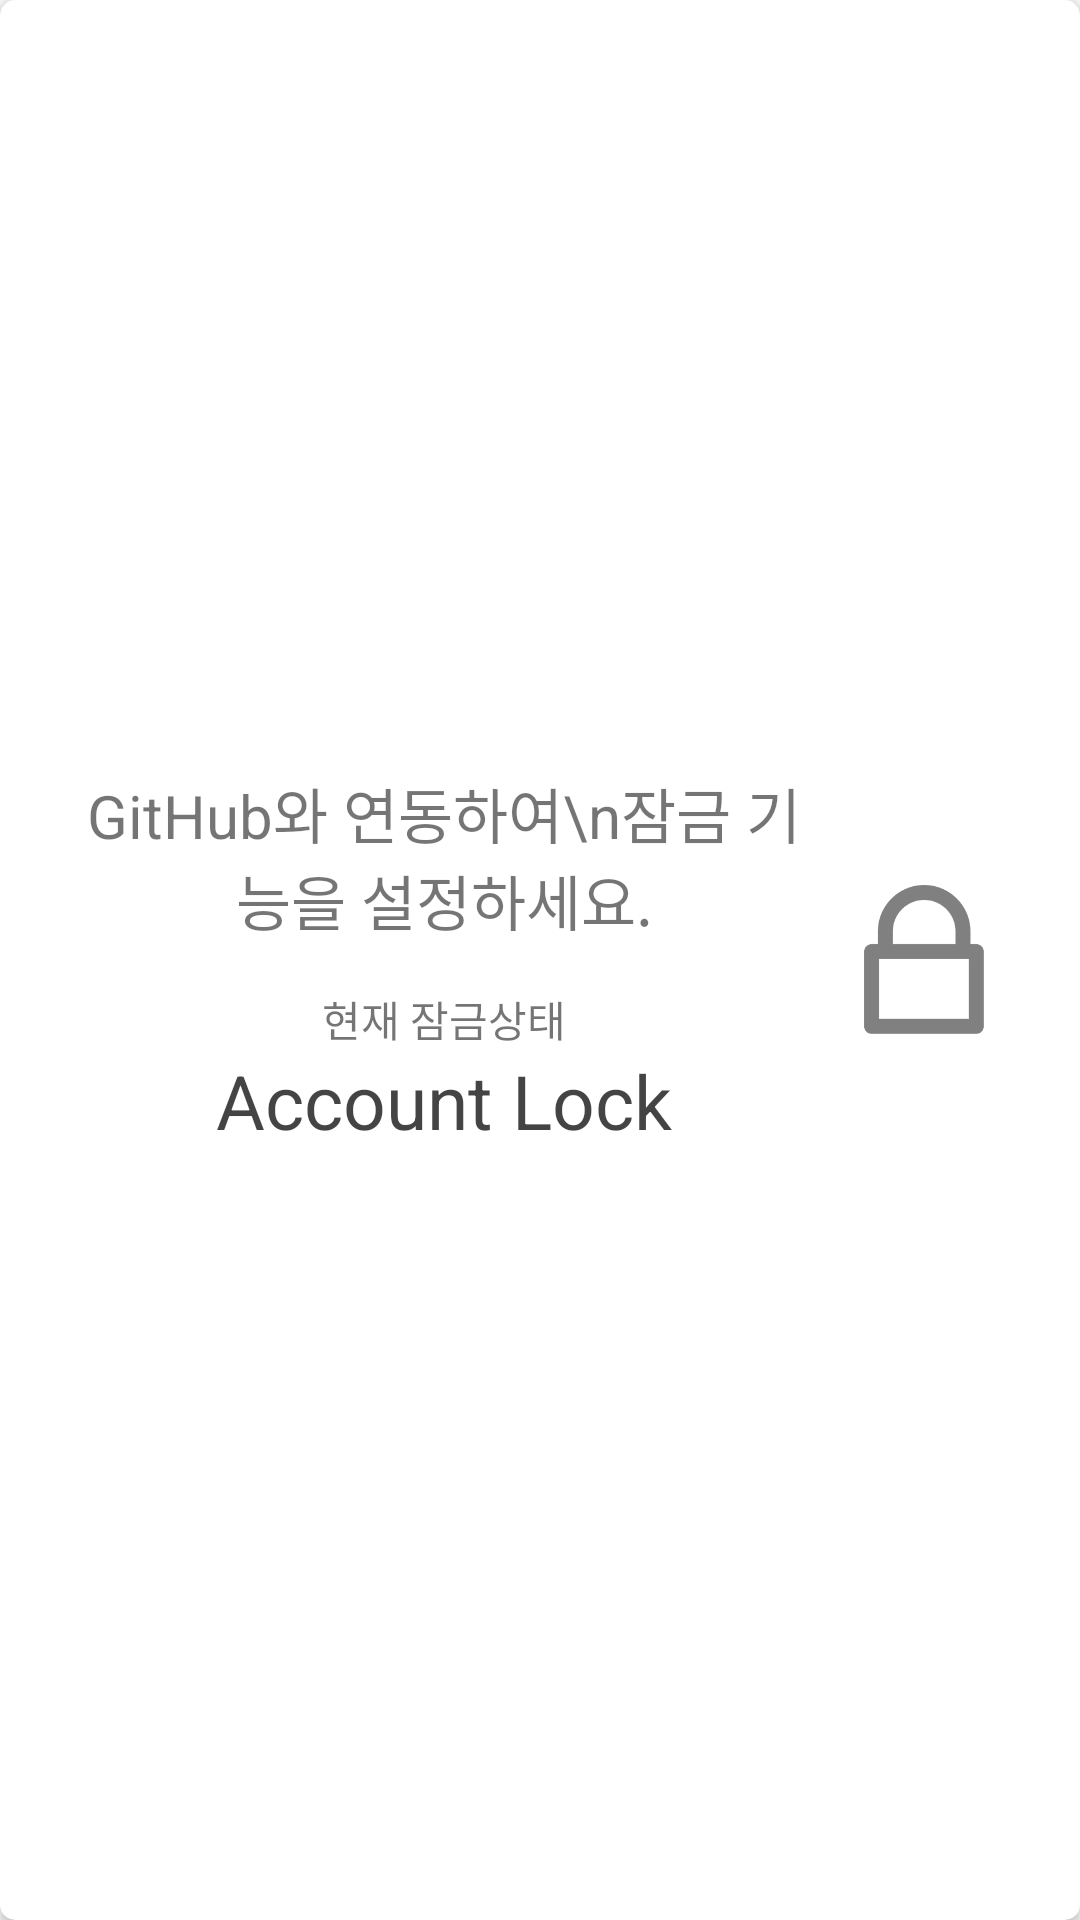

Screen size 1080w x 1920h. Icon name, then its box in pixels as BBox(x1, y1, x2, y2):
lock: BBox(864, 885, 984, 1034)
